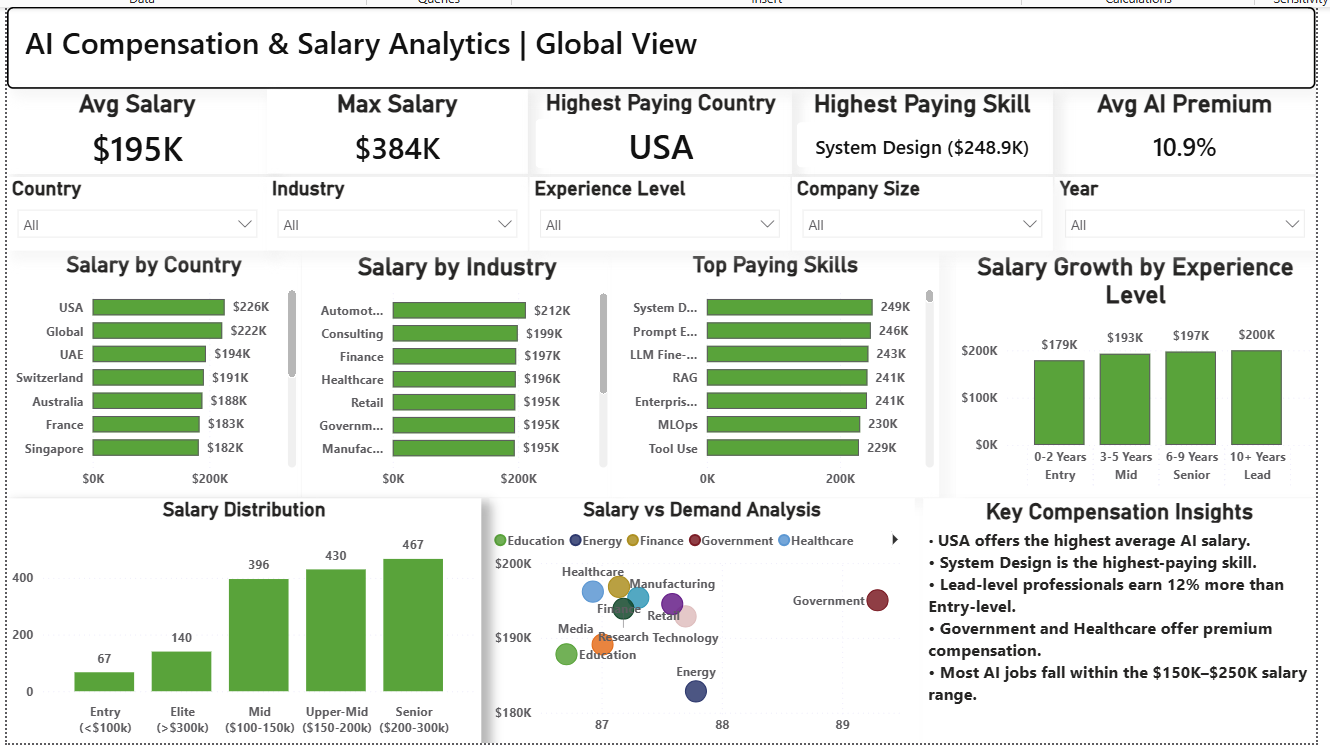

What the dashboard file says about the page in this screenshot:
{"tool":"powerbi","page":{"name":"Compensation Analytics","canvas":[1280,720],"ordinal":2},"visuals":[{"type":"cardVisual","fields":{"Data":["Measure_Table.Page3_Title"]},"box":[0,0,1280,80],"z":0},{"type":"cardVisual","title":"Avg Salary","fields":{"Data":["Measure_Table.Avg Salary"]},"box":[0,81,255,82],"z":1000},{"type":"cardVisual","title":"Max Salary","fields":{"Data":["Measure_Table.Max Salary"]},"box":[254,81,255,82],"z":2000},{"type":"cardVisual","title":"Highest Paying Country","fields":{"Data":["Measure_Table.Highest Paying Country"]},"box":[512,81,255,82],"z":3000},{"type":"cardVisual","title":"Avg AI Premium","fields":{"Data":["Measure_Table.Avg AI Premium"]},"box":[1025,81,255,82],"z":4000},{"type":"cardVisual","title":"Highest Paying Skill","fields":{"Data":["Measure_Table.Highest Paying Skill"]},"box":[768,81,255,82],"z":5000},{"type":"clusteredBarChart","title":"Salary by Country","fields":{"Y":["Measure_Table.Avg Salary"],"Category":["Dim_Country.Country"]},"box":[0,240,288,240],"z":6000},{"type":"clusteredBarChart","title":"Salary by Industry","fields":{"Y":["Measure_Table.Avg Salary"],"Category":["Dim_Industry.Industry"]},"box":[288,240,304,240],"z":7000},{"type":"lineClusteredColumnComboChart","title":"Salary Growth by Experience Level","fields":{"Category":["Dim_Experience.Experience_Level","Dim_Experience.Experience_Bucket"],"Y":["Measure_Table.Avg Salary"]},"box":[928,240,352,240],"z":8000},{"type":"clusteredBarChart","title":"Top Paying Skills","fields":{"Y":["Measure_Table.Avg Skill Salary"],"Category":["fact_skills.required_skills"]},"box":[592,240,320,240],"z":9000},{"type":"scatterChart","title":"Salary vs Demand Analysis","fields":{"X":["fact_jobs.demand_score"],"Size":["Avg(fact_jobs.benefits_score_10)"],"Series":["Dim_Industry.Industry"],"Y":["Measure_Table.Avg Salary"]},"box":[472,480,416,240],"z":10000},{"type":"slicer","title":"Country","fields":{"Values":["Dim_Country.Country"]},"box":[0,166,255,72],"z":11000},{"type":"slicer","title":"Industry","fields":{"Values":["Dim_Industry.Industry"]},"box":[254,166,255,72],"z":12000},{"type":"slicer","title":"Year","fields":{"Values":["Dim_Date.Year"]},"box":[1025,166,255,72],"z":13000},{"type":"slicer","title":"Experience Level","fields":{"Values":["Dim_Experience.Experience_Level"]},"box":[511,166,255,72],"z":14000},{"type":"slicer","title":"Company Size","fields":{"Values":["Dim_Company_Size.Company_Size"]},"box":[768,166,255,72],"z":15000},{"type":"clusteredColumnChart","title":"Salary Distribution","fields":{"Category":["fact_jobs.salary_tier"],"Y":["Measure_Table.Job Count"]},"box":[0,480,464,240],"z":16000},{"type":"textbox","title":"Key Compensation Insights","box":[896,480,384,240],"z":17000}]}

Visuals, with their boxes on the page's 1280x720 design canvas (x1, y1, x2, y2). These are canvas units, not pixel positions in the 1330x750 screenshot, which may show the page scaled, cropped or inside an application window:
cardVisual - Measure_Table.Page3_Title: [left=0, top=0, right=1280, bottom=80]
"Avg Salary" cardVisual: [left=0, top=81, right=255, bottom=163]
"Max Salary" cardVisual: [left=254, top=81, right=509, bottom=163]
"Highest Paying Country" cardVisual: [left=512, top=81, right=767, bottom=163]
"Avg AI Premium" cardVisual: [left=1025, top=81, right=1280, bottom=163]
"Highest Paying Skill" cardVisual: [left=768, top=81, right=1023, bottom=163]
"Salary by Country" clusteredBarChart: [left=0, top=240, right=288, bottom=480]
"Salary by Industry" clusteredBarChart: [left=288, top=240, right=592, bottom=480]
"Salary Growth by Experience Level" lineClusteredColumnComboChart: [left=928, top=240, right=1280, bottom=480]
"Top Paying Skills" clusteredBarChart: [left=592, top=240, right=912, bottom=480]
"Salary vs Demand Analysis" scatterChart: [left=472, top=480, right=888, bottom=720]
"Country" slicer: [left=0, top=166, right=255, bottom=238]
"Industry" slicer: [left=254, top=166, right=509, bottom=238]
"Year" slicer: [left=1025, top=166, right=1280, bottom=238]
"Experience Level" slicer: [left=511, top=166, right=766, bottom=238]
"Company Size" slicer: [left=768, top=166, right=1023, bottom=238]
"Salary Distribution" clusteredColumnChart: [left=0, top=480, right=464, bottom=720]
"Key Compensation Insights" textbox: [left=896, top=480, right=1280, bottom=720]
